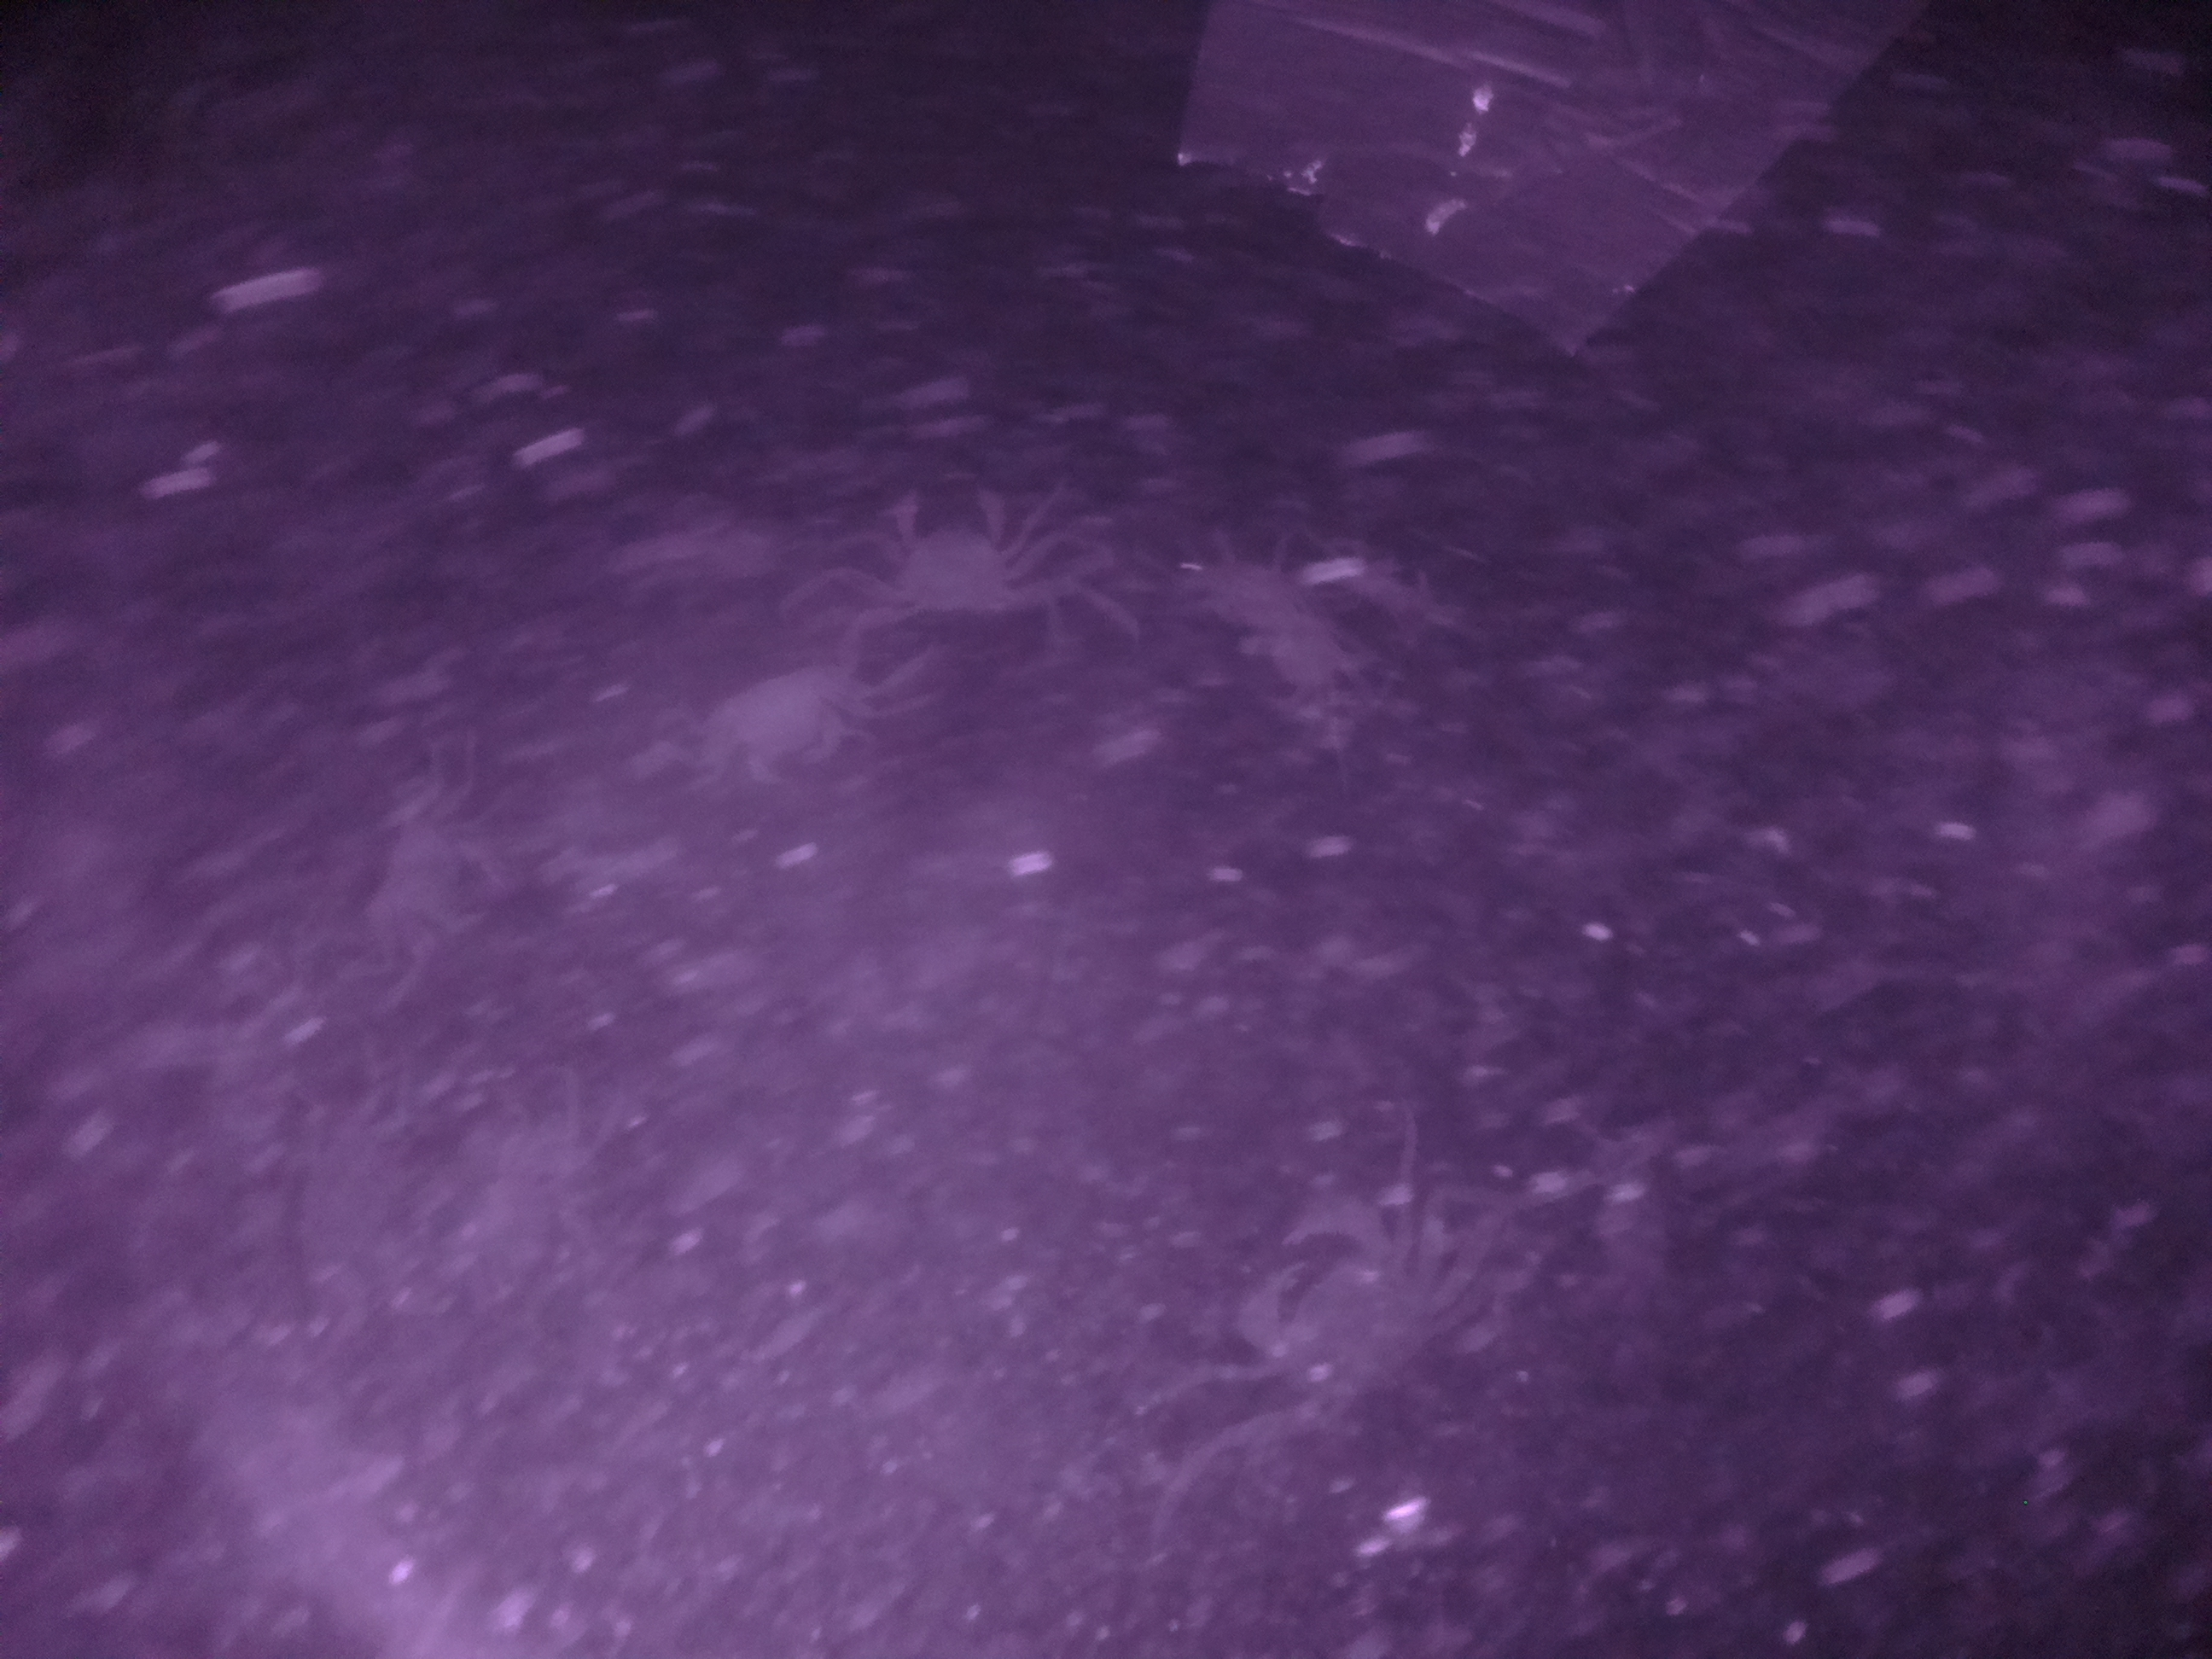Crab: (1202, 1157, 1493, 1483), (850, 462, 1052, 627)
